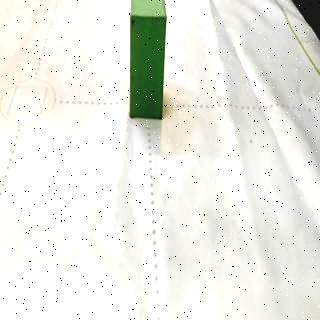greenbox: (128, 0, 168, 120)
